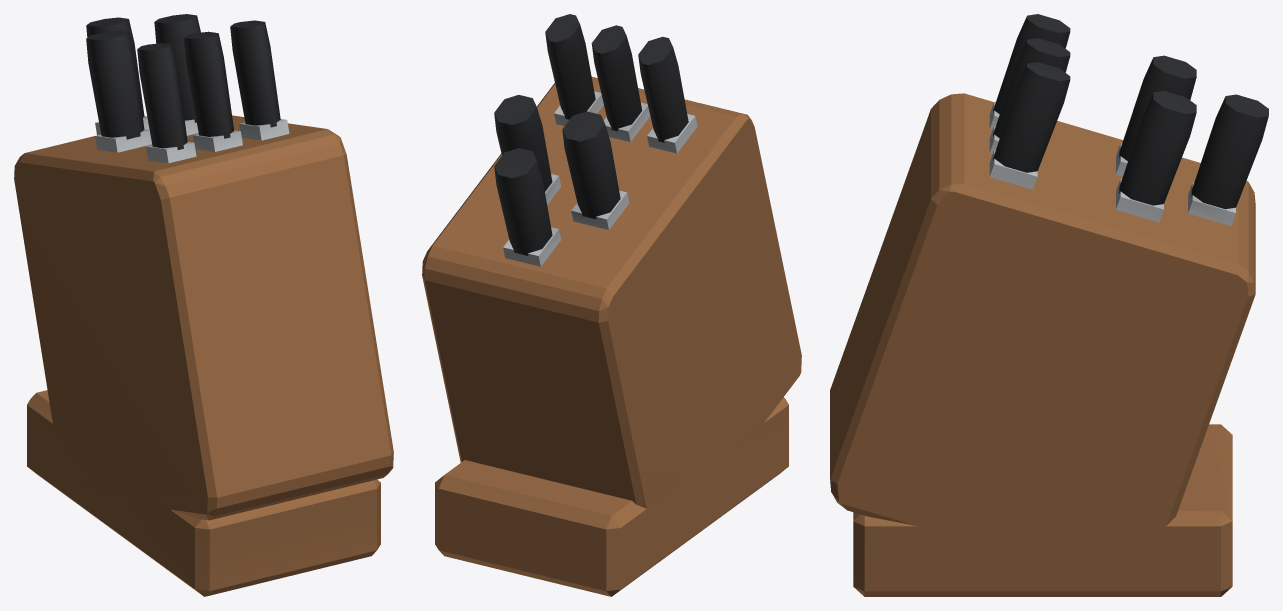
The model's file is knifeBlock.glb.
The picture shows the model from 3 angles, left to right: view 1: azimuth 30°, elevation 25°; view 2: azimuth 150°, elevation 25°; view 3: azimuth 270°, elevation 25°; orthographic projection. The views are drawn at different scales.
Visible parts, largest first — view 1: knifeBlock; view 2: knifeBlock; view 3: knifeBlock.
Boxes of the visible parts, x1,y1,x2,y2 form: knifeBlock: [14, 14, 393, 596]; knifeBlock: [422, 14, 801, 596]; knifeBlock: [830, 14, 1268, 596].
Bounding box in the file's own units: 0.12 × 0.2981 × 0.2313.
